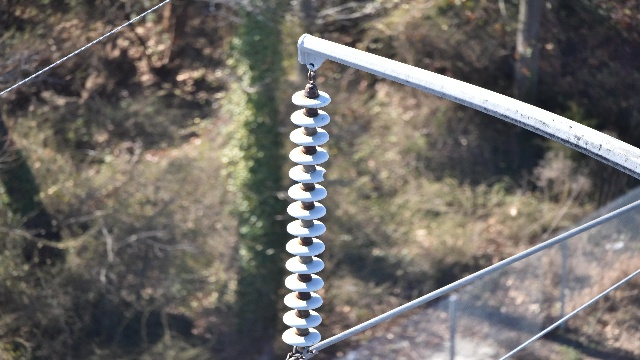broken_local: (322, 167, 327, 181)
insulator_unspecified: (280, 88, 331, 345)
